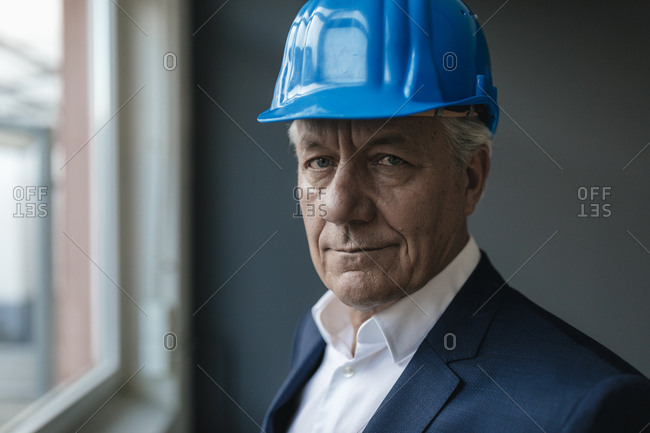Person_wearing_helmet: (268, 0, 496, 174)
